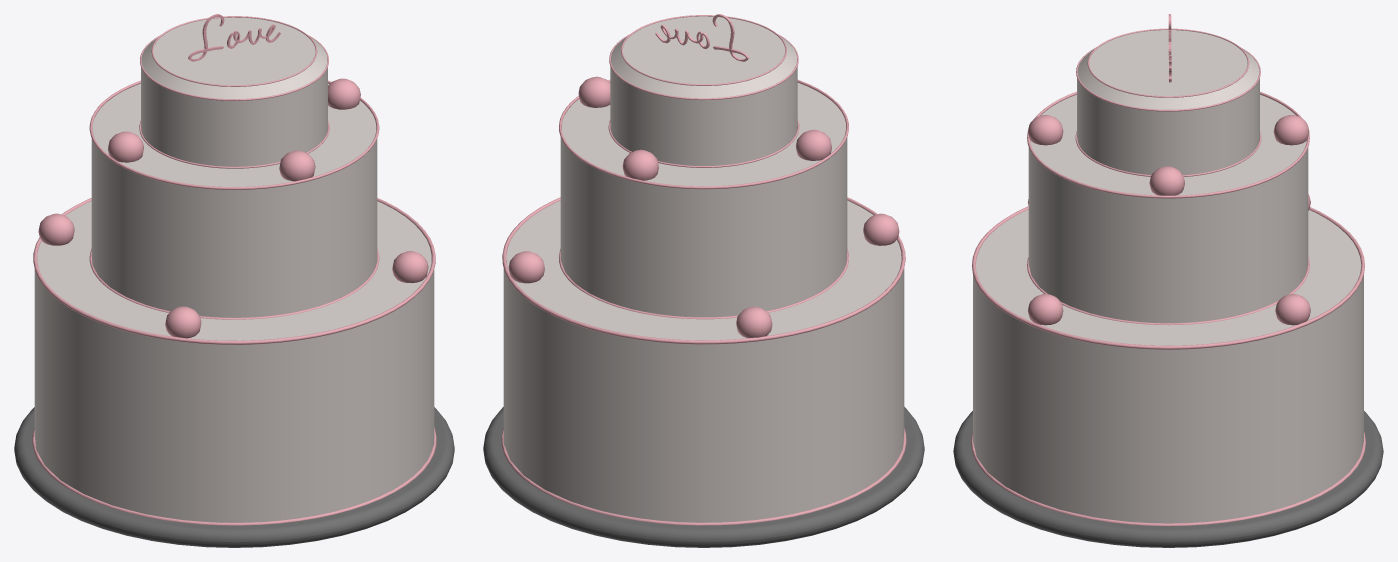
Rendered from wedCake.gltf.
3 views of the same model, side by side, from view 1: azimuth 30°, elevation 25°; view 2: azimuth 150°, elevation 25°; view 3: azimuth 270°, elevation 25° (orthographic). The views are drawn at different scales.
Visible parts, largest first — view 1: Cake 3, Cake 2, Cake 1, Circle, Cream Base 05, Cream Base 06, Cream Base 03, Cream Ball 7, Cream Ball 6, Cream Ball 5, Cream Ball 1, Cream Ball 3 (+5 smaller); view 2: Cake 3, Cake 2, Cake 1, Circle, Cream Base 05, Cream Base 06, Cream Base 03, Cream Ball 8, Cream Ball 5, Cream Ball 7, Cream Ball 1, Cream Ball 4 (+5 smaller); view 3: Cake 3, Cake 2, Cake 1, Circle, Cream Base 05, Cream Base 06, Cream Base 03, Cream Ball 6, Cream Ball 8, Cream Ball 3, Cream Ball 4, Cream Ball 2 (+3 smaller).
Boxes of the visible parts, x1=… form: Cake 3: x1=34, y1=201, x2=434, y2=522; Cake 2: x1=91, y1=83, x2=377, y2=317; Cake 1: x1=141, y1=17, x2=327, y2=166; Circle: x1=14, y1=407, x2=454, y2=547; Cream Base 05: x1=33, y1=198, x2=435, y2=344; Cream Base 06: x1=32, y1=427, x2=436, y2=525; Cream Base 03: x1=89, y1=80, x2=379, y2=189; Cream Ball 7: x1=38, y1=213, x2=74, y2=245; Cream Ball 6: x1=392, y1=251, x2=428, y2=282; Cream Ball 5: x1=165, y1=306, x2=201, y2=338; Cream Ball 1: x1=108, y1=131, x2=143, y2=162; Cream Ball 3: x1=279, y1=150, x2=315, y2=181; Cake 3: x1=503, y1=200, x2=904, y2=522; Cake 2: x1=560, y1=82, x2=847, y2=317; Cake 1: x1=610, y1=16, x2=797, y2=165; Circle: x1=483, y1=407, x2=924, y2=547; Cream Base 05: x1=502, y1=197, x2=905, y2=344; Cream Base 06: x1=501, y1=427, x2=906, y2=525; Cream Base 03: x1=559, y1=80, x2=848, y2=189; Cream Ball 8: x1=508, y1=251, x2=544, y2=283; Cream Ball 5: x1=863, y1=213, x2=899, y2=245; Cream Ball 7: x1=736, y1=306, x2=772, y2=338; Cream Ball 1: x1=796, y1=129, x2=831, y2=160; Cream Ball 4: x1=622, y1=149, x2=658, y2=180; Cake 3: x1=973, y1=209, x2=1363, y2=523; Cake 2: x1=1028, y1=94, x2=1308, y2=323; Cake 1: x1=1077, y1=30, x2=1259, y2=175; Circle: x1=953, y1=411, x2=1383, y2=547; Cream Base 05: x1=972, y1=206, x2=1364, y2=349; Cream Base 06: x1=971, y1=432, x2=1365, y2=526; Cream Base 03: x1=1027, y1=91, x2=1309, y2=198; Cream Ball 6: x1=1027, y1=294, x2=1063, y2=325; Cream Ball 8: x1=1275, y1=294, x2=1310, y2=325; Cream Ball 3: x1=1027, y1=115, x2=1063, y2=145; Cream Ball 4: x1=1273, y1=115, x2=1309, y2=145; Cream Ball 2: x1=1149, y1=166, x2=1184, y2=195.
Bounding box in the file's own units: 2.2 × 2.46 × 2.2.
